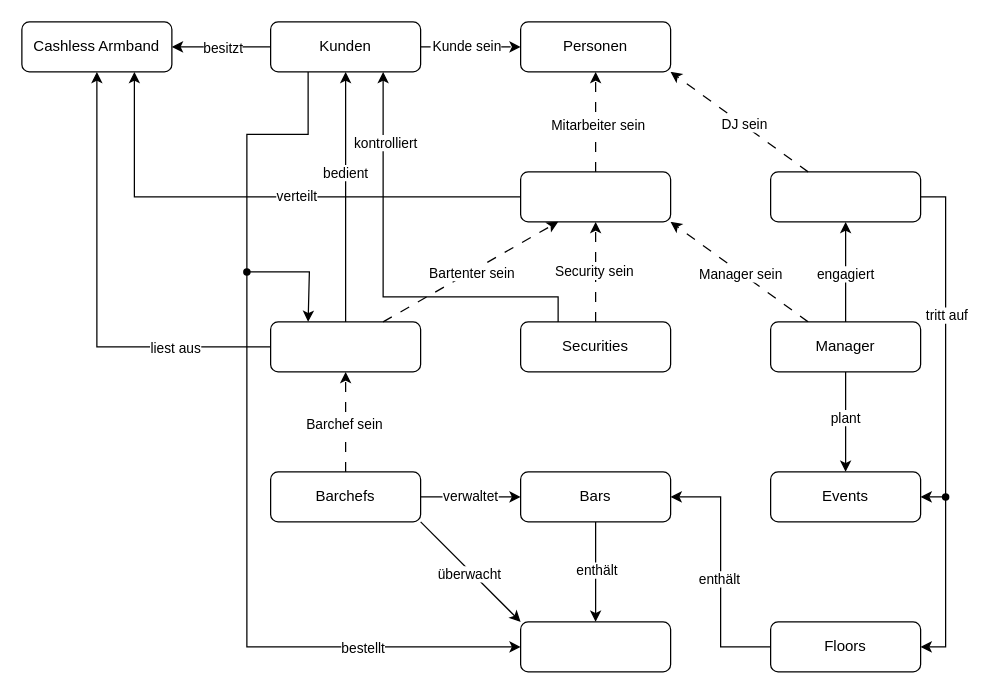
Some shapes in this 989 by 694 pixel diagram are drawn without their labels. Each missing label, with the centre of its shape:
Bartender: the point at 345,346
DJs: the point at 845,196
Getraenke: the point at 595,646
Mitarbeiter: the point at 595,196
